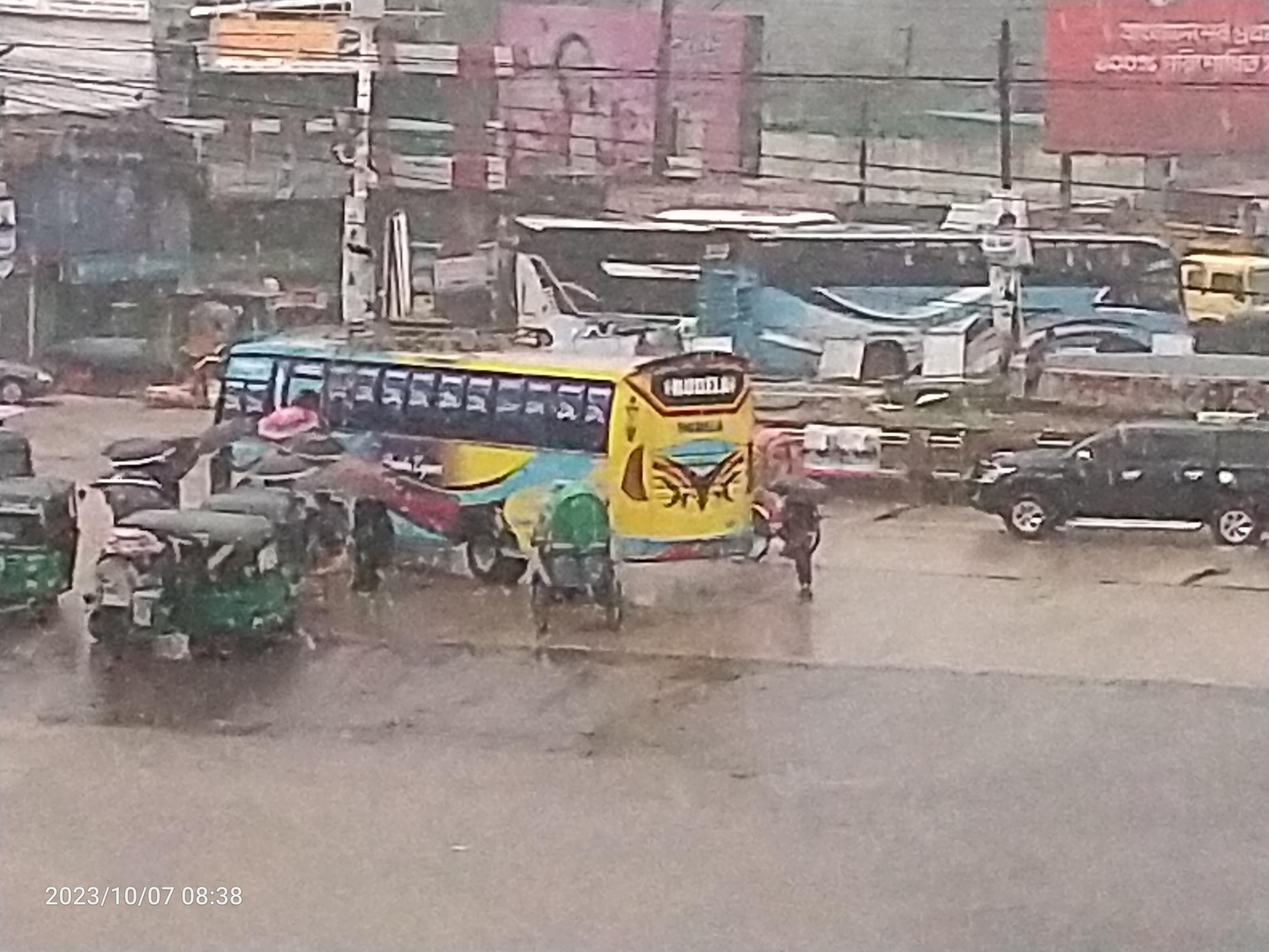Bus: (177, 315, 799, 597), (674, 205, 1218, 427), (476, 166, 764, 415)
Car: (947, 378, 1269, 619), (498, 473, 660, 690), (0, 344, 73, 415)
Truck: (1178, 239, 1269, 356)
